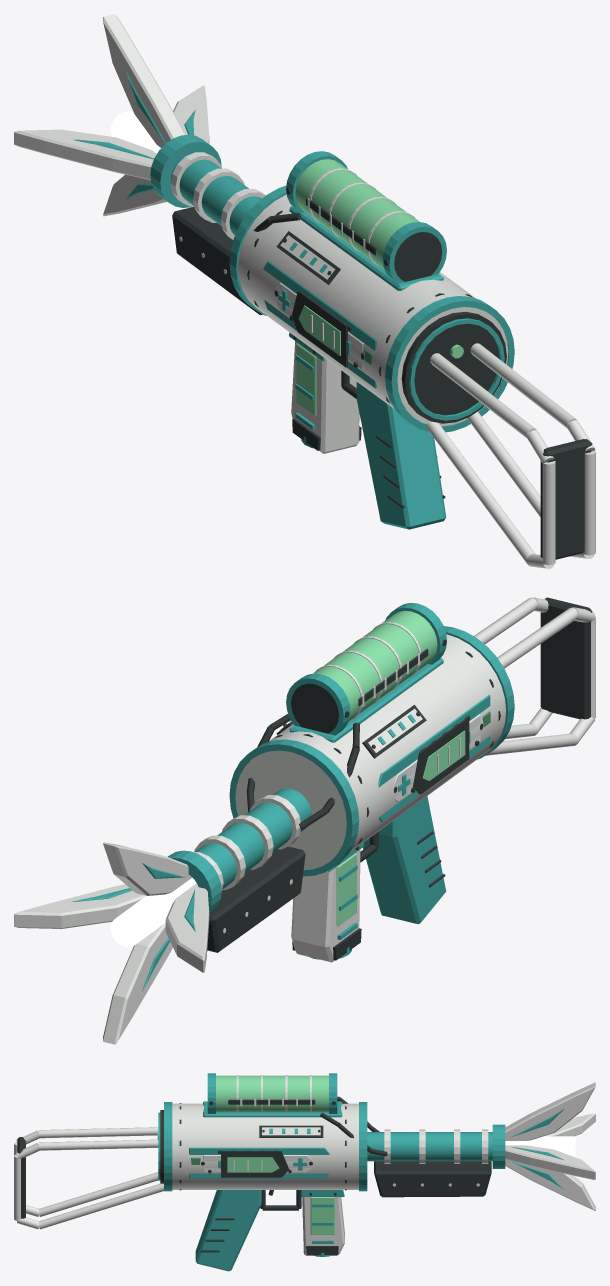
The model's file is medic_1.glb.
3 renders of one model, top to bottom at view 1: azimuth 30°, elevation 25°; view 2: azimuth 150°, elevation 25°; view 3: azimuth 270°, elevation 25°, orthographic. The views are drawn at different scales.
Parts seen in each view (by area): view 1: Weapon_medic_v1; view 2: Weapon_medic_v1; view 3: Weapon_medic_v1.
Part boxes in pixels (<box>): Weapon_medic_v1: <box>14,14,595,568</box>; Weapon_medic_v1: <box>14,597,595,1044</box>; Weapon_medic_v1: <box>14,1073,595,1271</box>.
Size of the model in its own units: 0.1982 by 0.3022 by 0.8351.
